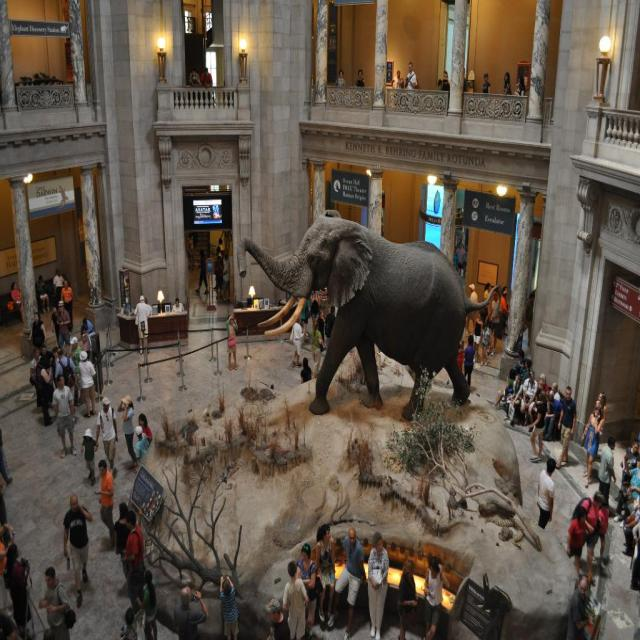elephant: (237, 210, 502, 422)
